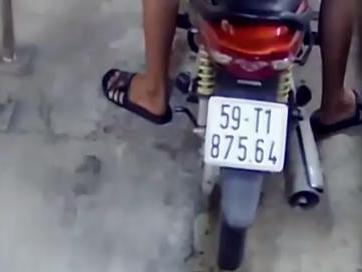num_plate: (205, 95, 290, 175)
